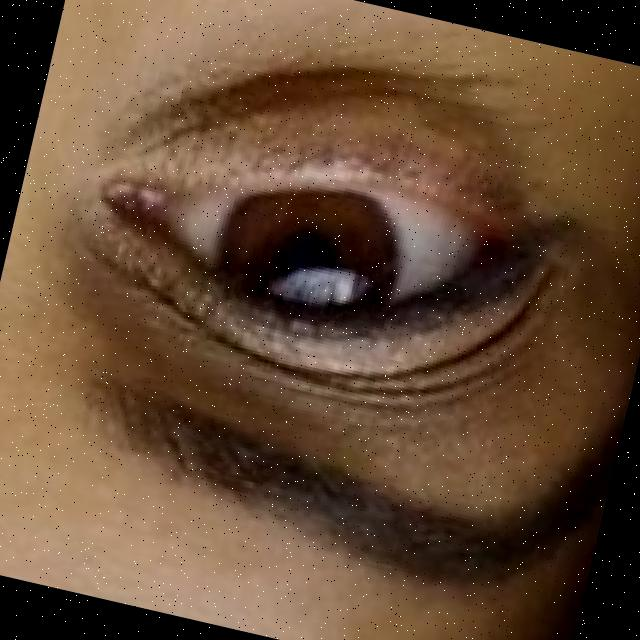Normal: (71, 103, 576, 400)
